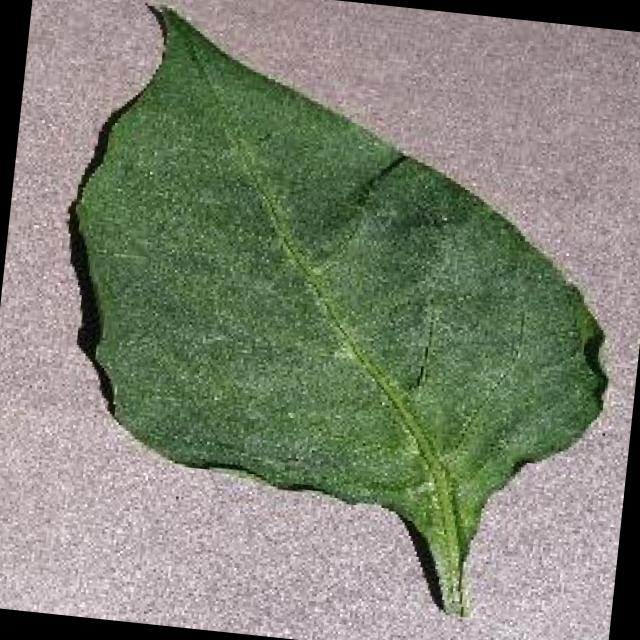Chilli_Healthy: (29, 0, 640, 629)
